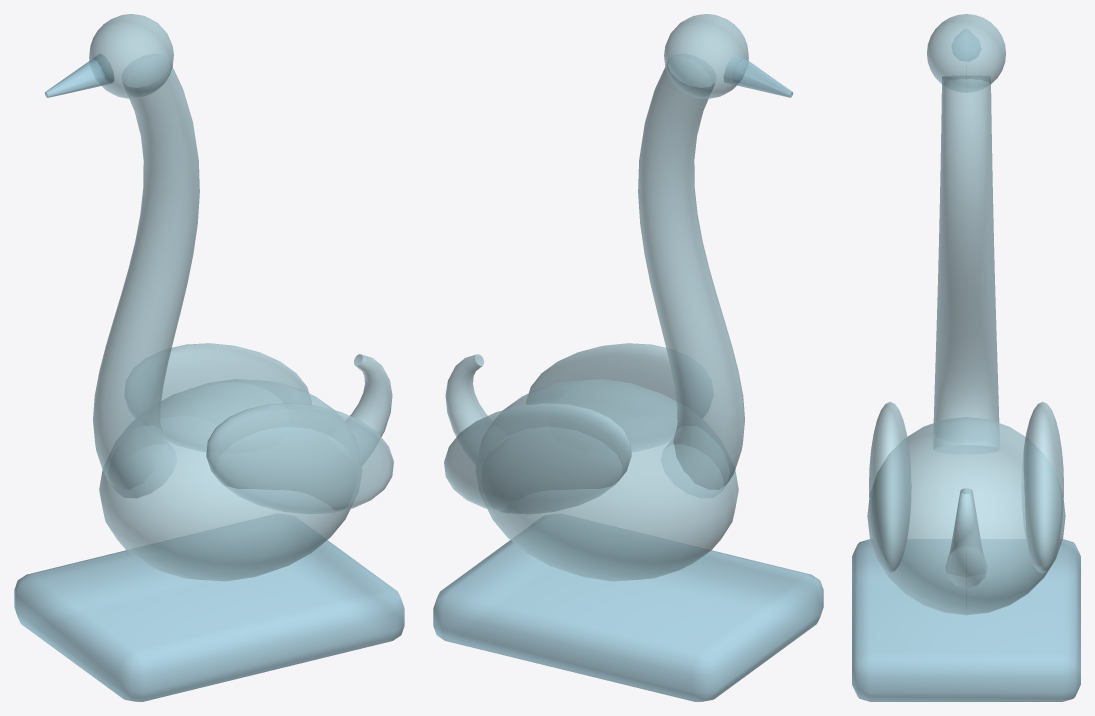
Rendered from piece_iceswan.fbx.
3 renders of one model, left to right at view 1: azimuth 30°, elevation 25°; view 2: azimuth 150°, elevation 25°; view 3: azimuth 270°, elevation 25°, orthographic. The views are drawn at different scales.
Parts seen in each view (by area): view 1: piece_iceswan; view 2: piece_iceswan; view 3: piece_iceswan.
Part boxes in pixels (box(x1,y1,x2,y2)): piece_iceswan: box(14, 14, 404, 701); piece_iceswan: box(433, 14, 823, 701); piece_iceswan: box(852, 14, 1080, 701).
Bounding box in the file's own units: 0.2431 × 0.428 × 0.15.
